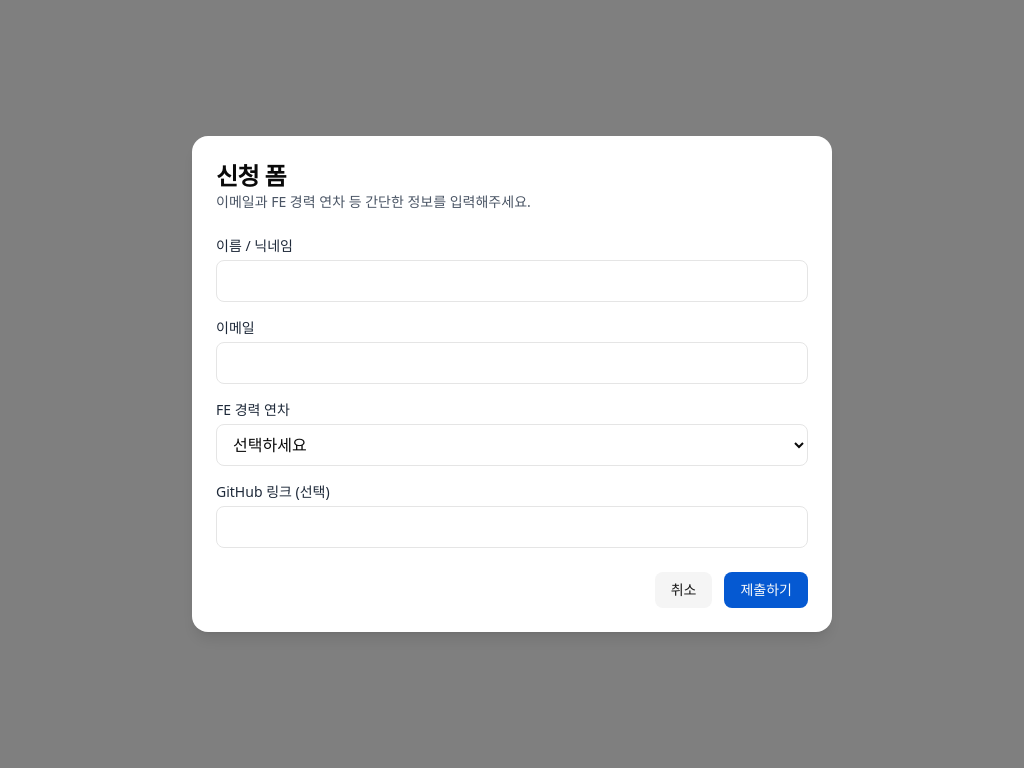
Test: DeveloperFormModal › GitHub URL 검증이 올바르게 동작한다
Step 1. Type "테스트" into the field labelled "이름 / 닉네임" → (512, 281), box [216, 260, 808, 302]
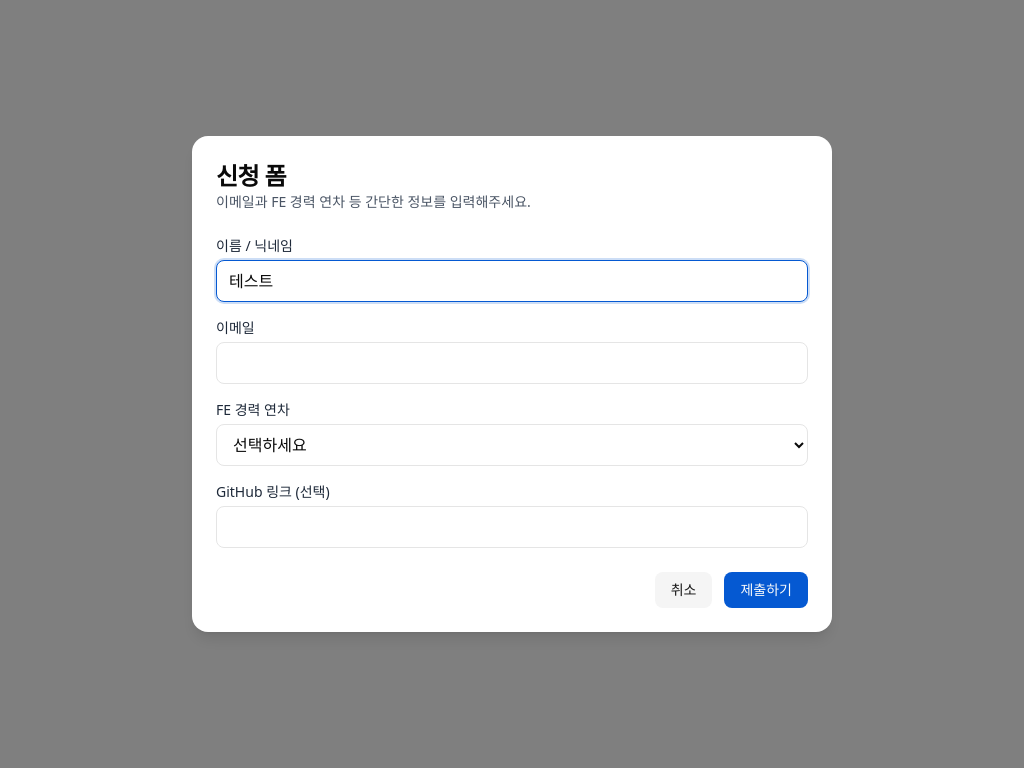
Step 2. Type "test@example.com" into the field labelled "이메일" → (512, 363), box [216, 342, 808, 384]
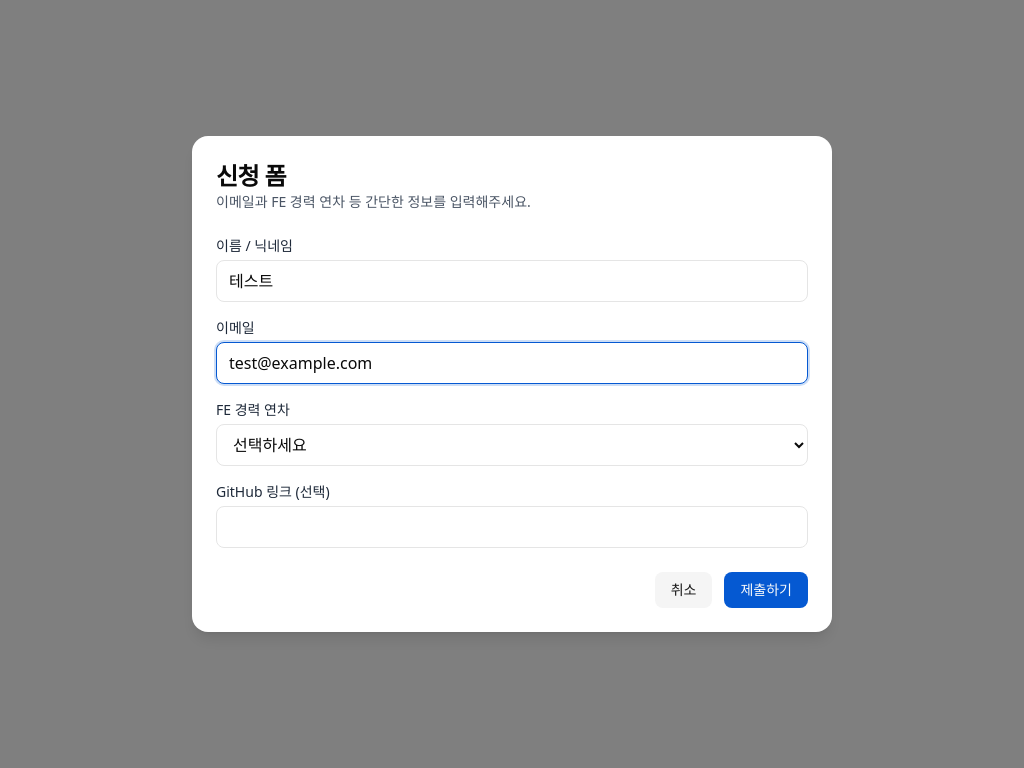
Step 3. Select "1–3년" in the dropdown labelled "FE 경력 연차" → (512, 445), box [216, 424, 808, 466]
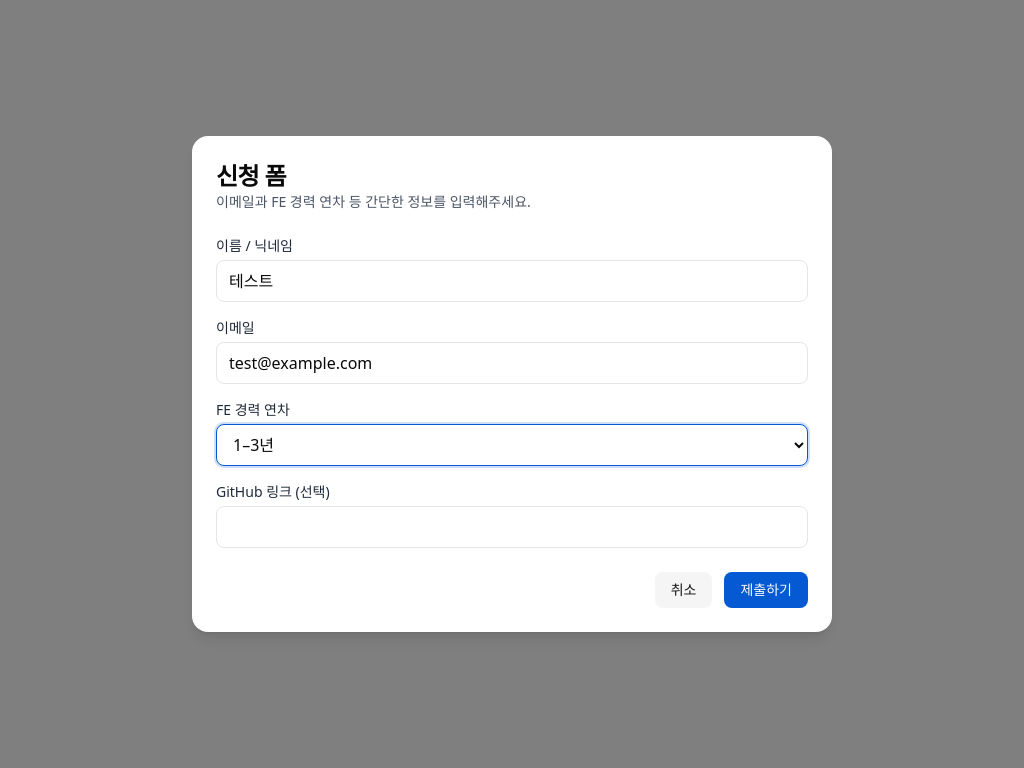
Step 4. Type "invalid-url" into the field labelled "GitHub 링크 (선택)" → (512, 527), box [216, 506, 808, 548]
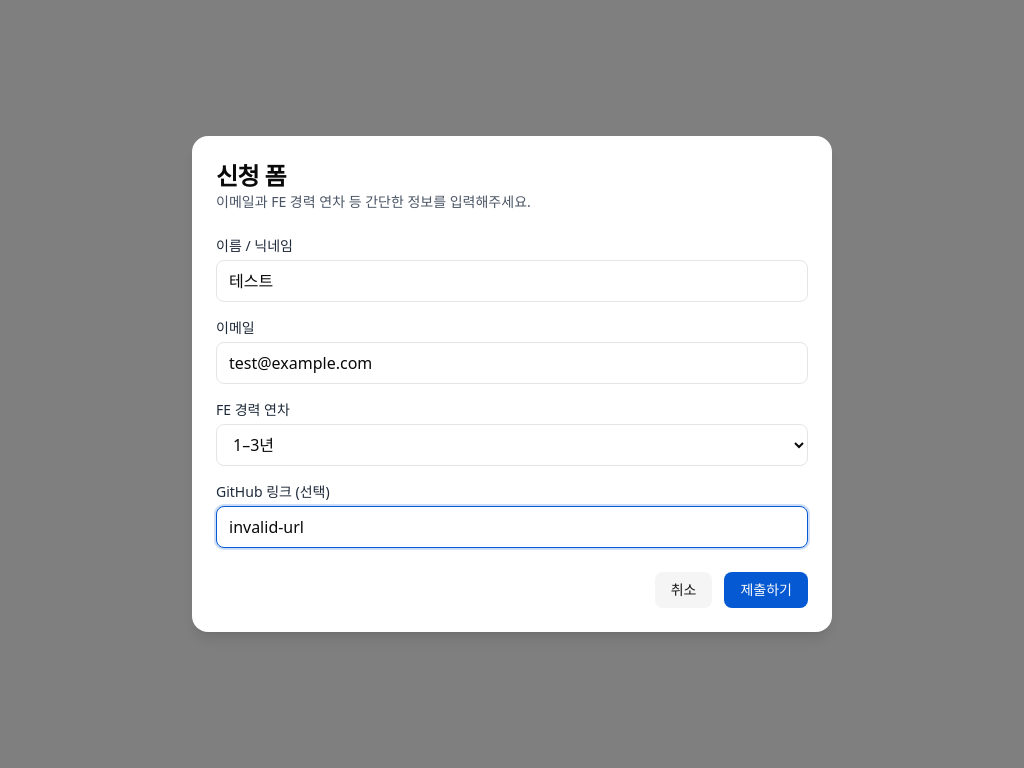
Step 5. Click the button "제출하기" → click(766, 590), box [724, 572, 808, 608]
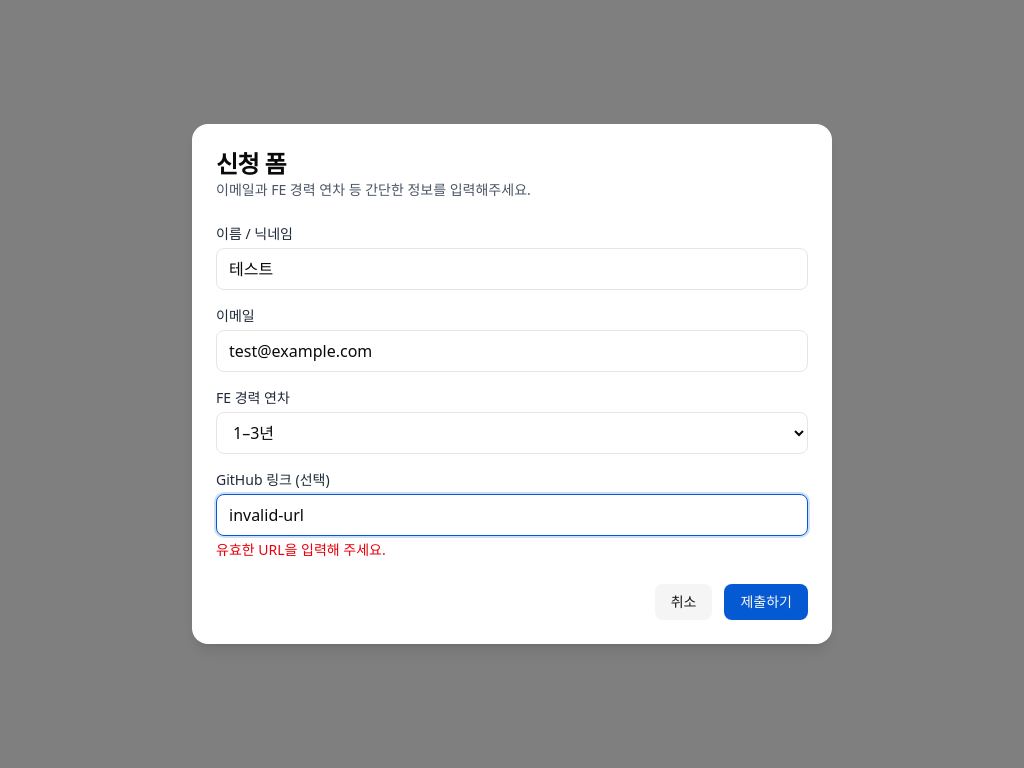
Expected: the text "유효한 URL을 입력해 주세요." is shown, [216, 540, 386, 559]
